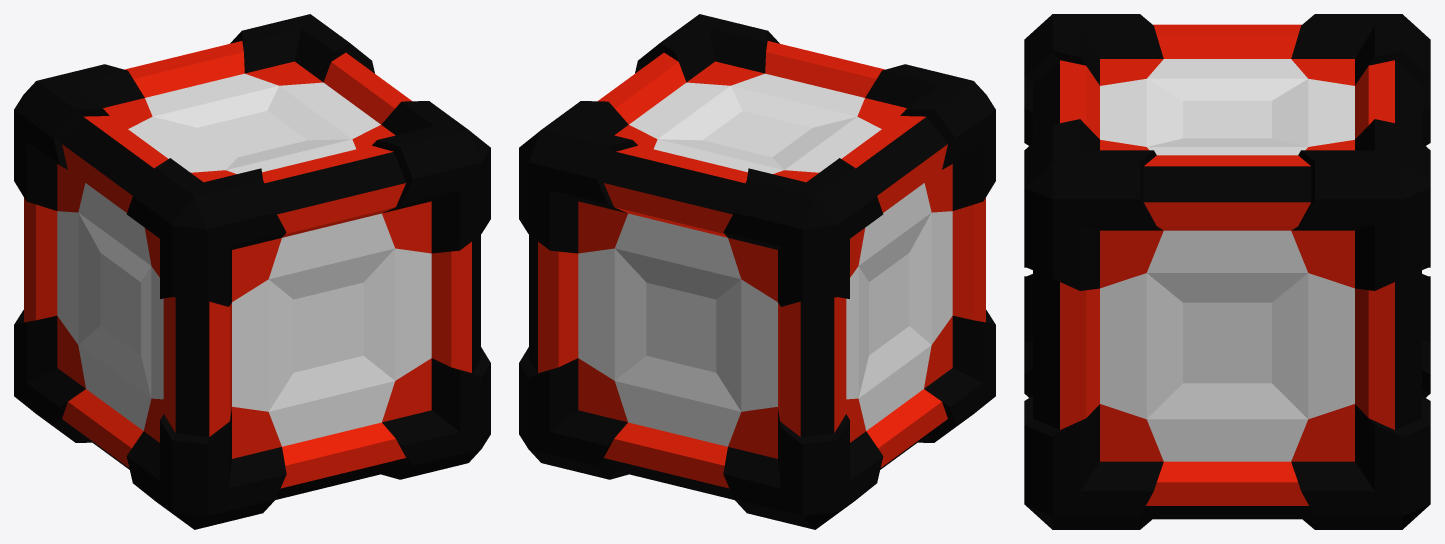
The picture shows the model from 3 angles, left to right: view 1: azimuth 30°, elevation 25°; view 2: azimuth 150°, elevation 25°; view 3: azimuth 270°, elevation 25°; orthographic projection. The views are drawn at different scales.
Parts seen in each view (by area): view 1: Cube; view 2: Cube; view 3: Cube.
Boxes of the visible parts, box(x1,y1,x2,y2) form: Cube: box(14, 14, 490, 529); Cube: box(519, 14, 995, 529); Cube: box(1024, 14, 1430, 529).
Size of the model in its own units: 209 by 209 by 209.
